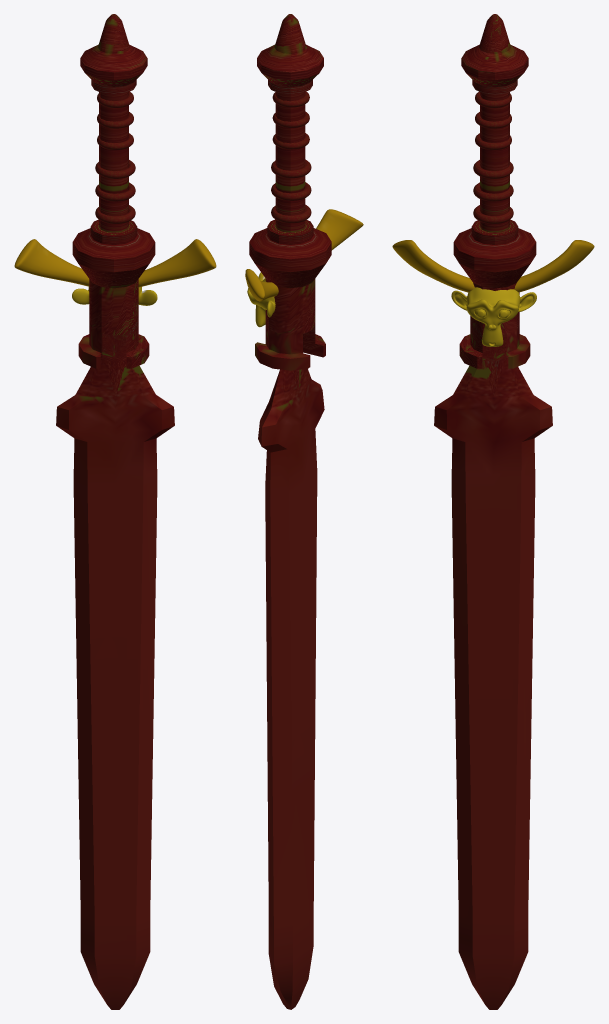
File: ESPADA CABALLERO.fbx
The picture shows the model from 3 angles, left to right: view 1: azimuth 90°, elevation 25°; view 2: azimuth 150°, elevation 25°; view 3: azimuth 270°, elevation 25°; orthographic projection.
Parts seen in each view (by area): view 1: Torus.006, Cube.001, Suzanne; view 2: Torus.006, Cube.001, Suzanne; view 3: Torus.006, Cube.001, Suzanne.
Part boxes in pixels (left/top/right/bottom): Torus.006: left=56, top=14, right=174, bottom=1009; Cube.001: left=14, top=239, right=216, bottom=287; Suzanne: left=72, top=287, right=157, bottom=305; Torus.006: left=249, top=14, right=331, bottom=1009; Cube.001: left=245, top=209, right=363, bottom=301; Suzanne: left=247, top=272, right=275, bottom=327; Torus.006: left=434, top=14, right=552, bottom=1009; Cube.001: left=392, top=240, right=594, bottom=292; Suzanne: left=451, top=287, right=536, bottom=346.
Bounding box in the file's own units: 64.05 × 840 × 155.
3 materials, 1 textured.
